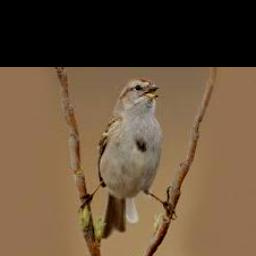Sparrow: (80, 78, 177, 238)
